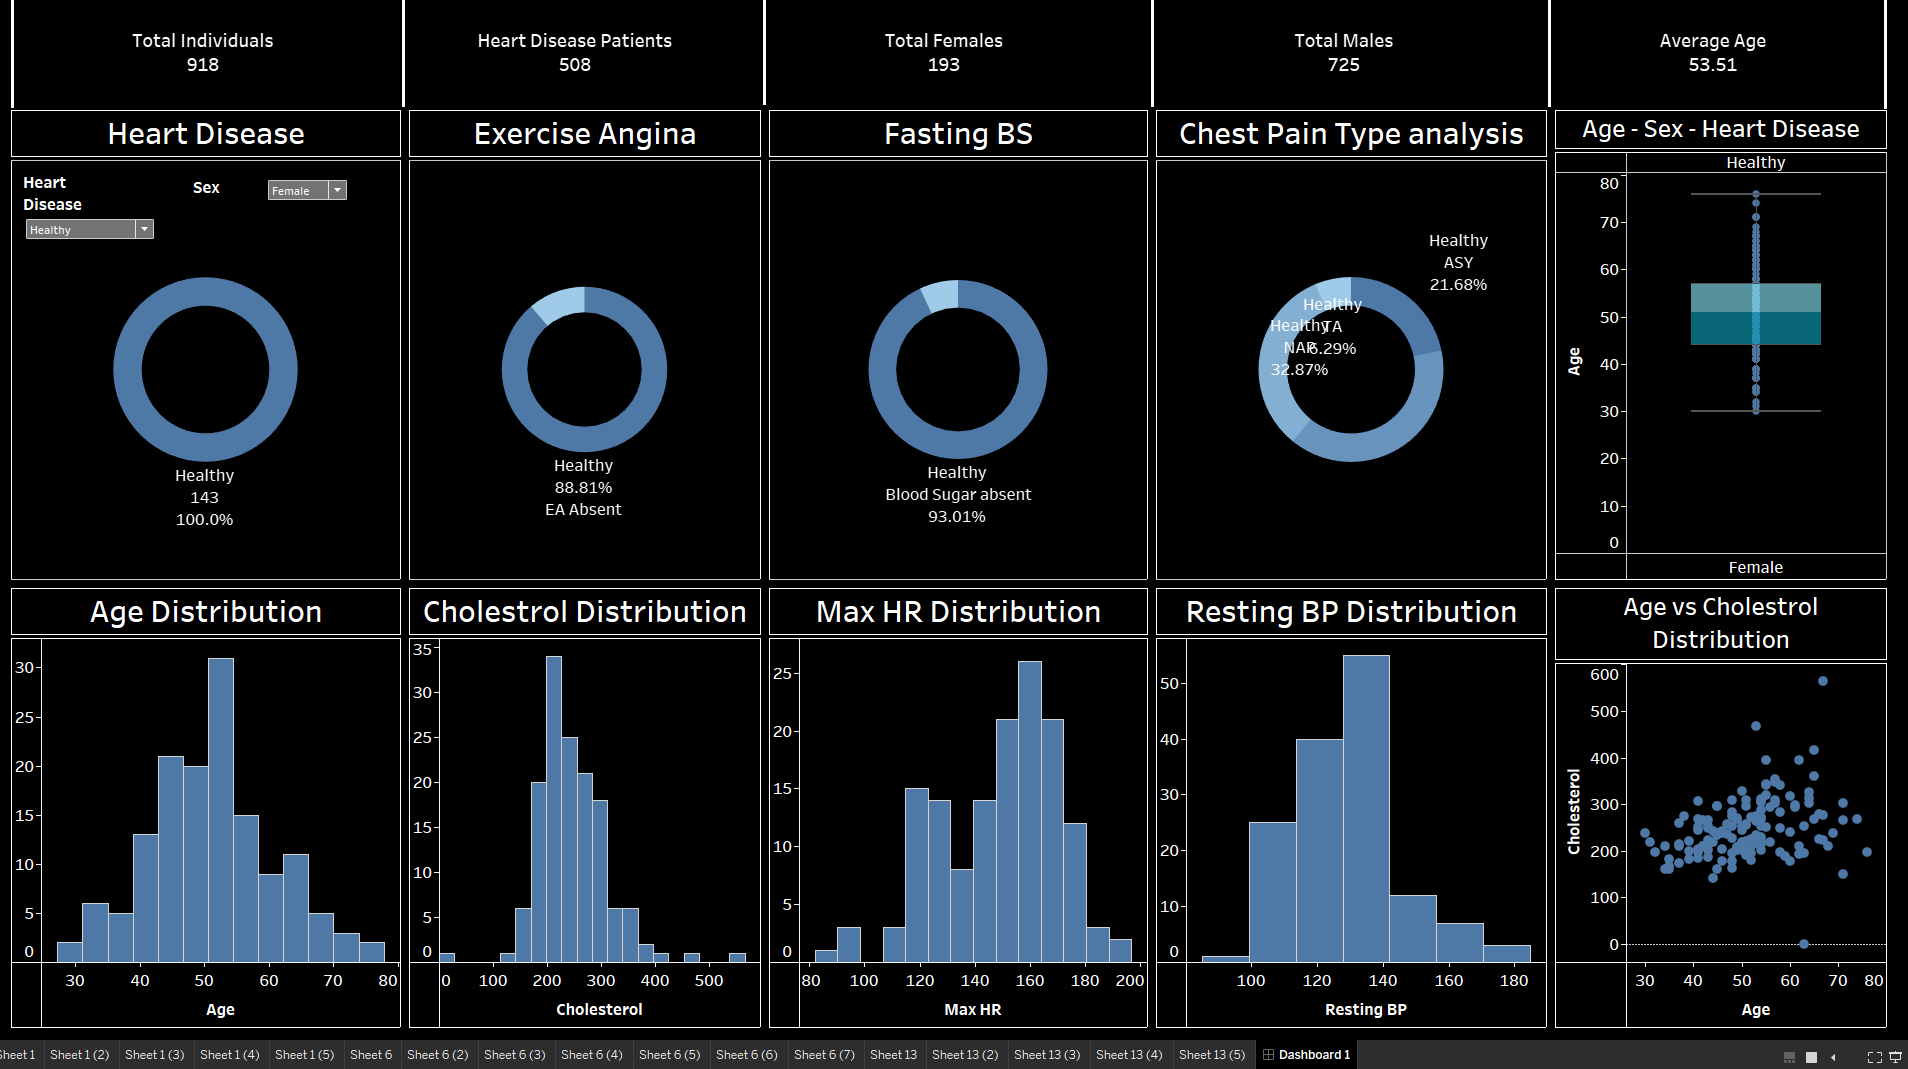

The dashboard page shown, as its layout file describes it:
{"tool":"tableau","page":{"name":"Dashboard 1","canvas":[1900,1050],"ordinal":0},"visuals":[{"type":"blank","box":[764,6,3,109]},{"type":"worksheet","title":"Sheet 13","mark":"Automatic","box":[8,8,398,108]},{"type":"blank","box":[403,8,3,109]},{"type":"worksheet","title":"Sheet 13 (2)","mark":"Automatic","box":[406,8,360,108]},{"type":"worksheet","title":"Sheet 13 (3)","mark":"Automatic","box":[766,8,387,108]},{"type":"blank","box":[1152,8,3,109]},{"type":"worksheet","title":"Sheet 13 (4)","mark":"Automatic","box":[1153,8,399,108]},{"type":"blank","box":[1549,8,3,109]},{"type":"worksheet","title":"Sheet 13 (5)","mark":"Automatic","box":[1552,8,340,108]},{"type":"blank","box":[12,9,3,109]},{"type":"blank","box":[1885,10,3,109]},{"type":"worksheet","title":"Sheet 1","mark":"Pie","rows":["Calculation_1559089924405420033","Calculation_1559089924405420033"],"box":[8,116,398,478.5]},{"type":"worksheet","title":"Sheet 1 (2)","mark":"Pie","rows":["Calculation_1559089924405420033","Calculation_1559089924405420033"],"box":[406,116,360.1,478]},{"type":"worksheet","title":"Sheet 1 (3)","mark":"Pie","rows":["Calculation_1559089924405420033","Calculation_1559089924405420033"],"box":[766,116,386.9,478]},{"type":"worksheet","title":"Sheet 1 (5)","mark":"Pie","rows":["Calculation_1559089924405420033","Calculation_1559089924405420033"],"box":[1152.9,116,399,478]},{"type":"worksheet","title":"Sheet 6 (7)","mark":"Circle","rows":["Age"],"cols":["HeartDisease","Sex"],"box":[1552,116,340,478]},{"type":"filter","title":"Sheet 1","param":"[federated.0mmssow19dczy51bjvsjd0ov2lq9].[none:HeartDisease:nk]","box":[24,181,134,85]},{"type":"filter","title":"Sheet 6 (7)","param":"[federated.0mmssow19dczy51bjvsjd0ov2lq9].[none:Sex:nk]","box":[194,187,157,36]},{"type":"worksheet","title":"Sheet 6 (2)","mark":"Automatic","rows":["Cholesterol"],"cols":["Cholesterol (bin)"],"box":[406,594,360.1,448]},{"type":"worksheet","title":"Sheet 6 (3)","mark":"Automatic","rows":["MaxHR"],"cols":["Max HR (bin)"],"box":[766,594,386.9,448]},{"type":"worksheet","title":"Sheet 6 (4)","mark":"Automatic","rows":["RestingBP"],"cols":["Resting BP (bin)"],"box":[1152.9,594,399,448]},{"type":"worksheet","title":"Sheet 6 (6)","mark":"Automatic","rows":["Cholesterol"],"cols":["Age"],"box":[1552,594,340,448]},{"type":"worksheet","title":"Sheet 6","mark":"Automatic","rows":["Age"],"cols":["Age (bin)"],"box":[8,594.5,398,447.5]}]}

Visuals, with their boxes on the page's 1900x1050 design canvas (x1, y1, x2, y2). These are canvas units, not pixel positions in the 1908x1069 screenshot, which may show the page scaled, cropped or inside an application window:
blank: {"x1": 764, "y1": 6, "x2": 767, "y2": 115}
"Sheet 13" worksheet: {"x1": 8, "y1": 8, "x2": 406, "y2": 116}
blank: {"x1": 403, "y1": 8, "x2": 406, "y2": 117}
"Sheet 13 (2)" worksheet: {"x1": 406, "y1": 8, "x2": 766, "y2": 116}
"Sheet 13 (3)" worksheet: {"x1": 766, "y1": 8, "x2": 1153, "y2": 116}
blank: {"x1": 1152, "y1": 8, "x2": 1155, "y2": 117}
"Sheet 13 (4)" worksheet: {"x1": 1153, "y1": 8, "x2": 1552, "y2": 116}
blank: {"x1": 1549, "y1": 8, "x2": 1552, "y2": 117}
"Sheet 13 (5)" worksheet: {"x1": 1552, "y1": 8, "x2": 1892, "y2": 116}
blank: {"x1": 12, "y1": 9, "x2": 15, "y2": 118}
blank: {"x1": 1885, "y1": 10, "x2": 1888, "y2": 119}
"Sheet 1" worksheet (Pie marks): {"x1": 8, "y1": 116, "x2": 406, "y2": 594}
"Sheet 1 (2)" worksheet (Pie marks): {"x1": 406, "y1": 116, "x2": 766, "y2": 594}
"Sheet 1 (3)" worksheet (Pie marks): {"x1": 766, "y1": 116, "x2": 1153, "y2": 594}
"Sheet 1 (5)" worksheet (Pie marks): {"x1": 1153, "y1": 116, "x2": 1552, "y2": 594}
"Sheet 6 (7)" worksheet (Circle marks): {"x1": 1552, "y1": 116, "x2": 1892, "y2": 594}
"Sheet 1" filter: {"x1": 24, "y1": 181, "x2": 158, "y2": 266}
"Sheet 6 (7)" filter: {"x1": 194, "y1": 187, "x2": 351, "y2": 223}
"Sheet 6 (2)" worksheet: {"x1": 406, "y1": 594, "x2": 766, "y2": 1042}
"Sheet 6 (3)" worksheet: {"x1": 766, "y1": 594, "x2": 1153, "y2": 1042}
"Sheet 6 (4)" worksheet: {"x1": 1153, "y1": 594, "x2": 1552, "y2": 1042}
"Sheet 6 (6)" worksheet: {"x1": 1552, "y1": 594, "x2": 1892, "y2": 1042}
"Sheet 6" worksheet: {"x1": 8, "y1": 594, "x2": 406, "y2": 1042}
